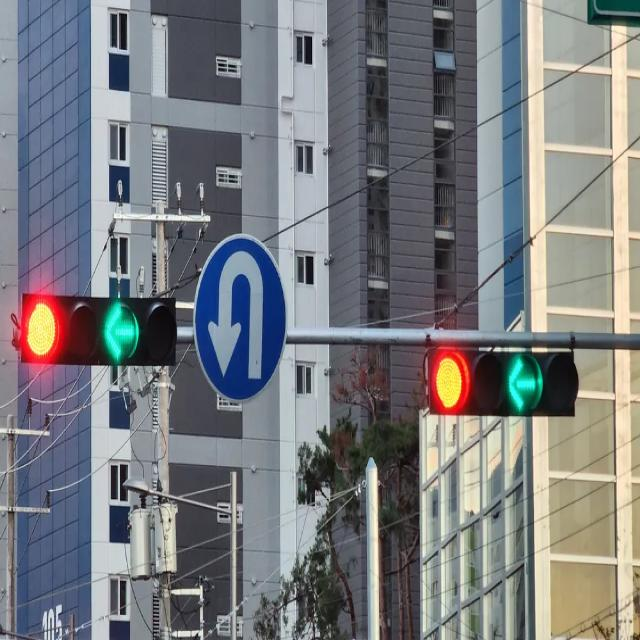red_light: (13, 280, 182, 374)
